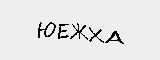Г: (104, 12, 116, 36)
Е: (22, 21, 42, 43)
О: (41, 21, 59, 43)
П: (61, 18, 83, 40)
С: (117, 12, 139, 35)
Ә: (82, 14, 103, 38)
